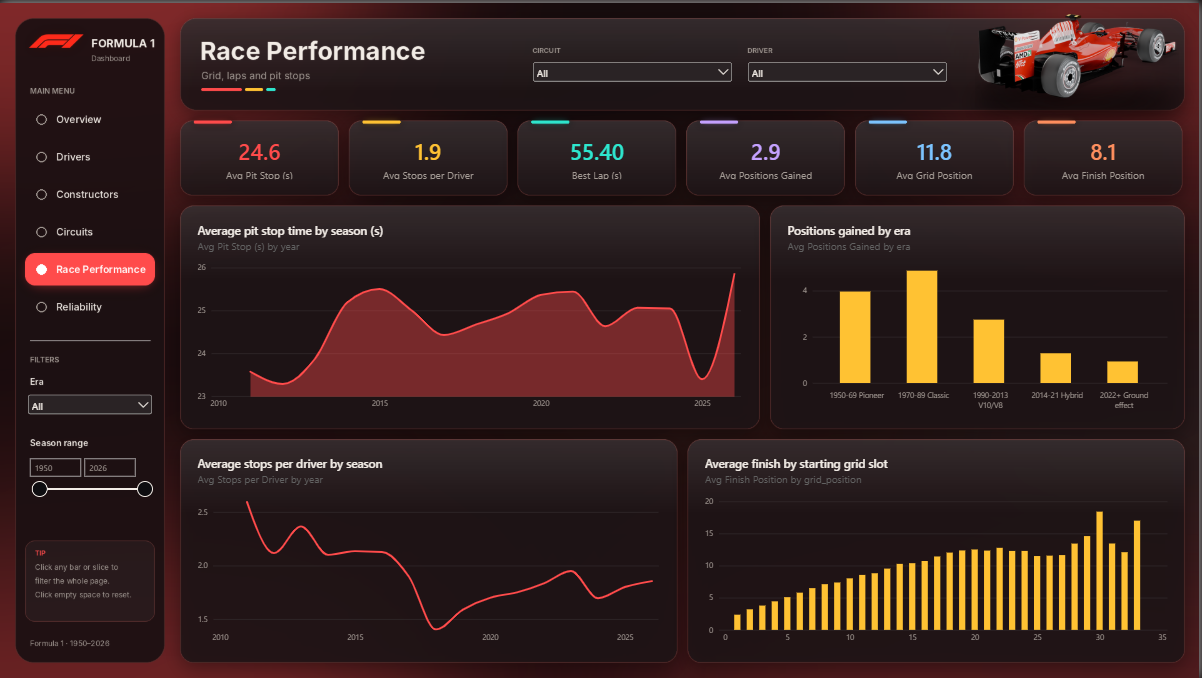

This screenshot's page, from the dashboard's own definition file:
{"tool":"powerbi","page":{"name":"Race Performance","canvas":[1920,1080],"ordinal":4},"visuals":[{"type":"actionButton","box":[40,160,208,52],"z":1000},{"type":"actionButton","box":[40,220,208,52],"z":2000},{"type":"actionButton","box":[40,280,208,52],"z":3000},{"type":"actionButton","box":[40,340,208,52],"z":4000},{"type":"actionButton","box":[40,400,208,52],"z":5000},{"type":"actionButton","box":[40,460,208,52],"z":6000},{"type":"slicer","fields":{"Values":["dim_race.era"]},"box":[40,622,208,44],"z":7000},{"type":"slicer","fields":{"Values":["dim_race.year"]},"box":[40,724,208,96],"z":8000},{"type":"slicer","fields":{"Values":["dim_circuit.circuit_name"]},"box":[848,90,328,40],"z":9000},{"type":"slicer","fields":{"Values":["dim_driver.driver_name"]},"box":[1192,90,328,40],"z":10000},{"type":"card","fields":{"Values":["_Measures.Avg Pit Stop (s)"]},"box":[300,202,230,96],"z":11000},{"type":"card","fields":{"Values":["_Measures.Avg Stops per Driver"]},"box":[570,202,230,96],"z":12000},{"type":"card","fields":{"Values":["_Measures.Best Lap (s)"]},"box":[840,202,230,96],"z":13000},{"type":"card","fields":{"Values":["_Measures.Avg Positions Gained"]},"box":[1110,202,230,96],"z":14000},{"type":"card","fields":{"Values":["_Measures.Avg Grid Position"]},"box":[1380,202,230,96],"z":15000},{"type":"card","fields":{"Values":["_Measures.Avg Finish Position"]},"box":[1650,202,230,96],"z":16000},{"type":"areaChart","title":"Average pit stop time by season (s)","fields":{"Category":["dim_race.year"],"Y":["_Measures.Avg Pit Stop (s)"]},"box":[300,336,904,334],"z":17000},{"type":"clusteredColumnChart","title":"Positions gained by era","fields":{"Category":["dim_race.era"],"Y":["_Measures.Avg Positions Gained"]},"box":[1244,336,640,334],"z":18000},{"type":"lineChart","title":"Average stops per driver by season","fields":{"Category":["dim_race.year"],"Y":["_Measures.Avg Stops per Driver"]},"box":[300,710,772,334],"z":19000},{"type":"clusteredColumnChart","title":"Average finish by starting grid slot","fields":{"Category":["fact_results.grid_position"],"Y":["_Measures.Avg Finish Position"]},"box":[1112,710,772,334],"z":20000}]}

Visuals, with their boxes on the page's 1920x1080 design canvas (x1, y1, x2, y2). These are canvas units, not pixel positions in the 1202x678 screenshot, which may show the page scaled, cropped or inside an application window:
actionButton: bbox=[40, 160, 248, 212]
actionButton: bbox=[40, 220, 248, 272]
actionButton: bbox=[40, 280, 248, 332]
actionButton: bbox=[40, 340, 248, 392]
actionButton: bbox=[40, 400, 248, 452]
actionButton: bbox=[40, 460, 248, 512]
slicer - dim_race.era: bbox=[40, 622, 248, 666]
slicer - dim_race.year: bbox=[40, 724, 248, 820]
slicer - dim_circuit.circuit_name: bbox=[848, 90, 1176, 130]
slicer - dim_driver.driver_name: bbox=[1192, 90, 1520, 130]
card - _Measures.Avg Pit Stop (s): bbox=[300, 202, 530, 298]
card - _Measures.Avg Stops per Driver: bbox=[570, 202, 800, 298]
card - _Measures.Best Lap (s): bbox=[840, 202, 1070, 298]
card - _Measures.Avg Positions Gained: bbox=[1110, 202, 1340, 298]
card - _Measures.Avg Grid Position: bbox=[1380, 202, 1610, 298]
card - _Measures.Avg Finish Position: bbox=[1650, 202, 1880, 298]
"Average pit stop time by season (s)" areaChart: bbox=[300, 336, 1204, 670]
"Positions gained by era" clusteredColumnChart: bbox=[1244, 336, 1884, 670]
"Average stops per driver by season" lineChart: bbox=[300, 710, 1072, 1044]
"Average finish by starting grid slot" clusteredColumnChart: bbox=[1112, 710, 1884, 1044]
